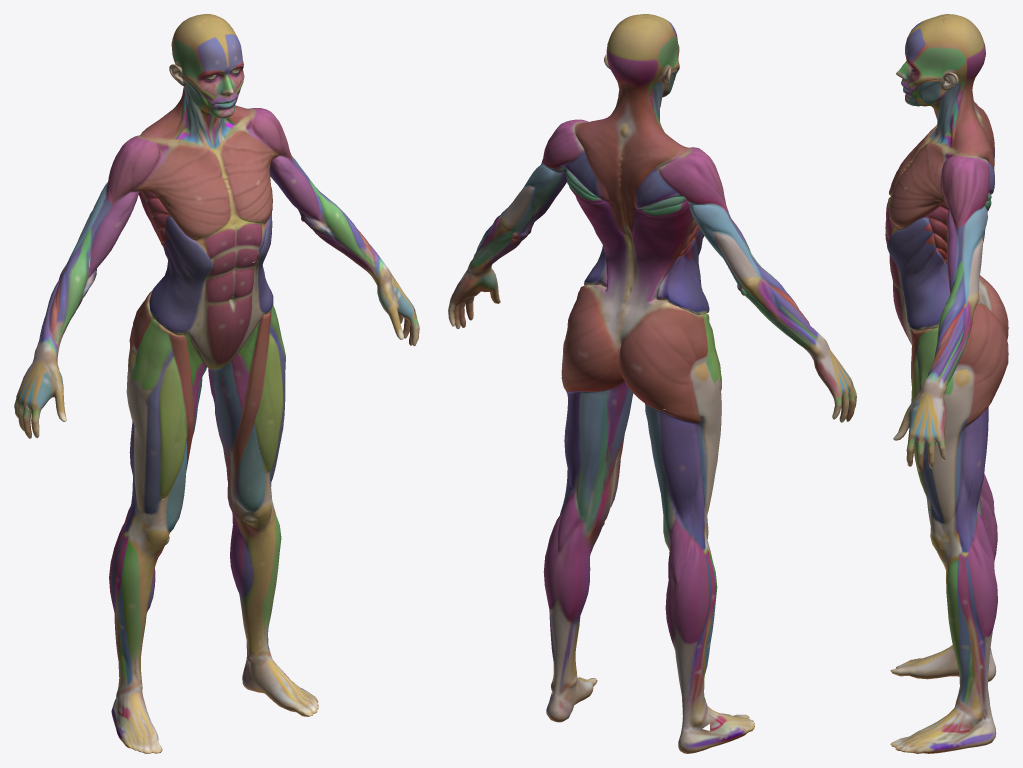
File: tripo-anatomical-human.glb
The picture shows the model from 3 angles, left to right: view 1: azimuth 30°, elevation 25°; view 2: azimuth 150°, elevation 25°; view 3: azimuth 270°, elevation 25°; orthographic projection.
Parts seen in each view (by area): view 1: tripo-anatomical-human; view 2: tripo-anatomical-human; view 3: tripo-anatomical-human.
Part boxes in pixels (x1=…): tripo-anatomical-human: x1=14, y1=14, x2=419, y2=753; tripo-anatomical-human: x1=448, y1=14, x2=856, y2=753; tripo-anatomical-human: x1=885, y1=14, x2=1008, y2=753.
Bounding box in the file's own units: 1.06 × 1.8 × 0.2893.
Materials: 1 (1 with a texture image).
